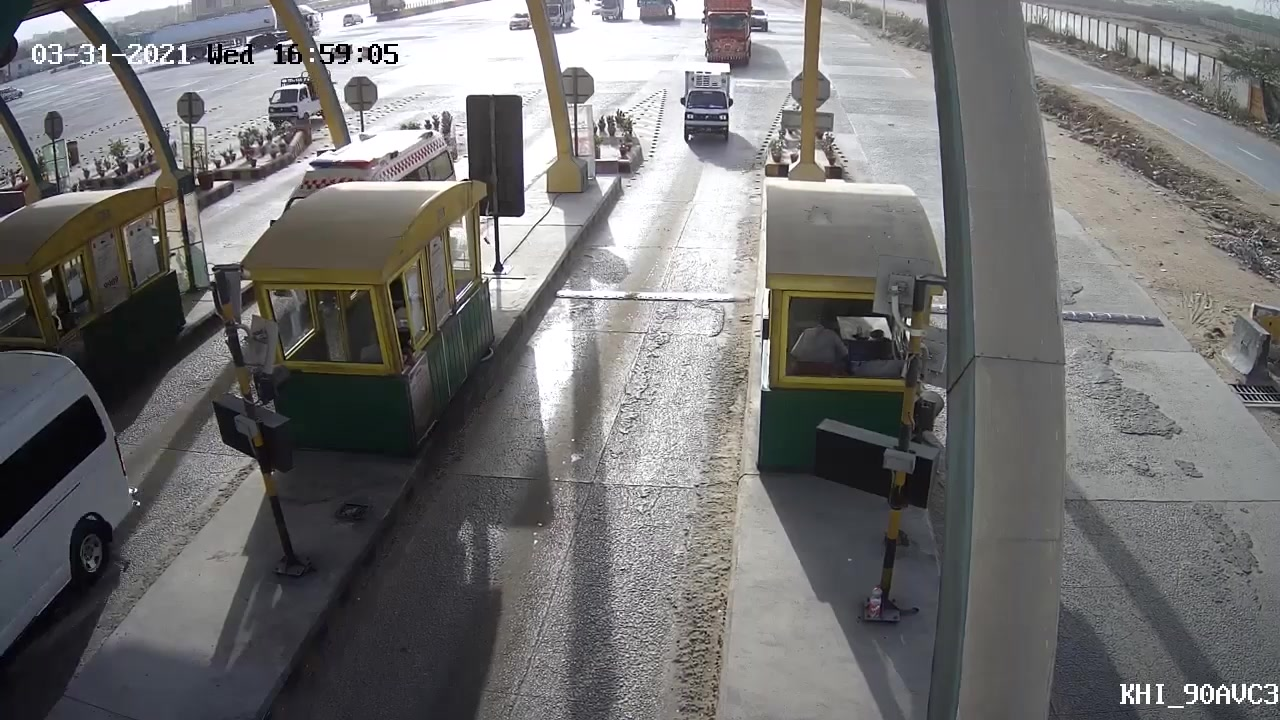F1: (677, 60, 738, 147)
